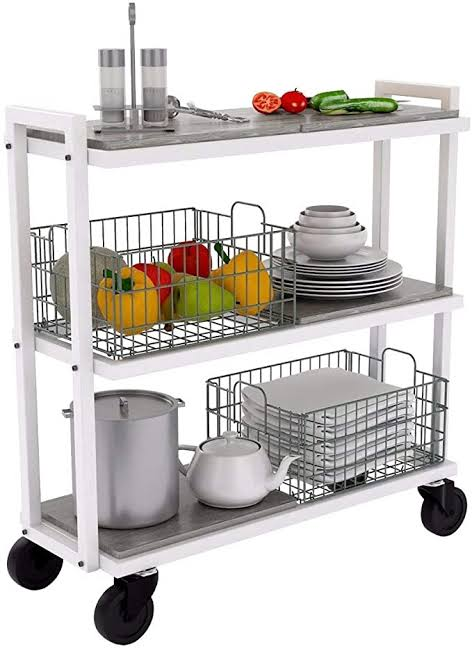Carts: (2, 80, 471, 647)
